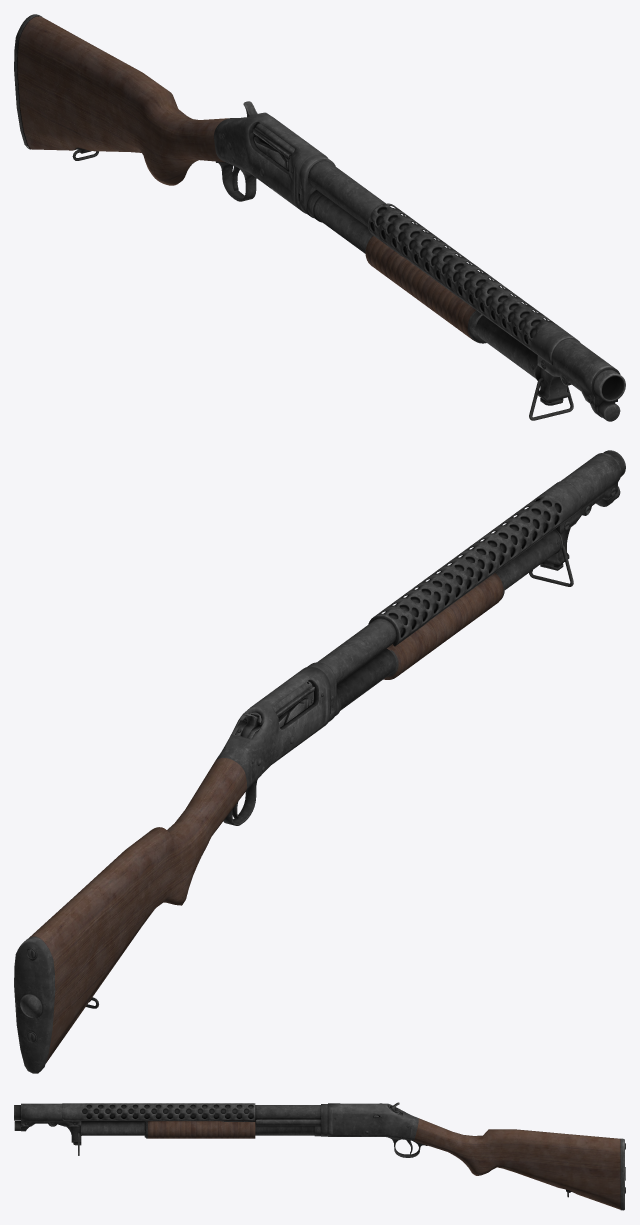
3 views of the same model, one above another, from view 1: azimuth 30°, elevation 25°; view 2: azimuth 150°, elevation 25°; view 3: azimuth 270°, elevation 25° (orthographic). The views are drawn at different scales.
Parts seen in each view (by area): view 1: Body_m97mat.007, Body_m97mat.008; view 2: Body_m97mat.007, Body_m97mat.008; view 3: Body_m97mat.007, Body_m97mat.008.
Boxes of the visible parts, x1,y1,x2,y2 form: Body_m97mat.007: [14, 14, 625, 421]; Body_m97mat.008: [243, 101, 486, 343]; Body_m97mat.007: [14, 450, 625, 1073]; Body_m97mat.008: [235, 572, 504, 738]; Body_m97mat.007: [14, 1103, 625, 1210]; Body_m97mat.008: [144, 1102, 402, 1138].
Bounding box in the file's own units: 0.044 × 0.1924 × 1.
2 materials, 2 textured.
